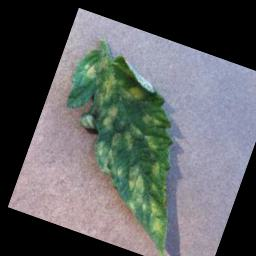Leaf_Mold: (110, 160, 186, 238), (86, 114, 145, 181), (95, 68, 120, 105), (119, 81, 146, 104), (100, 102, 121, 131), (79, 60, 100, 81), (139, 111, 162, 130), (147, 159, 162, 179)
